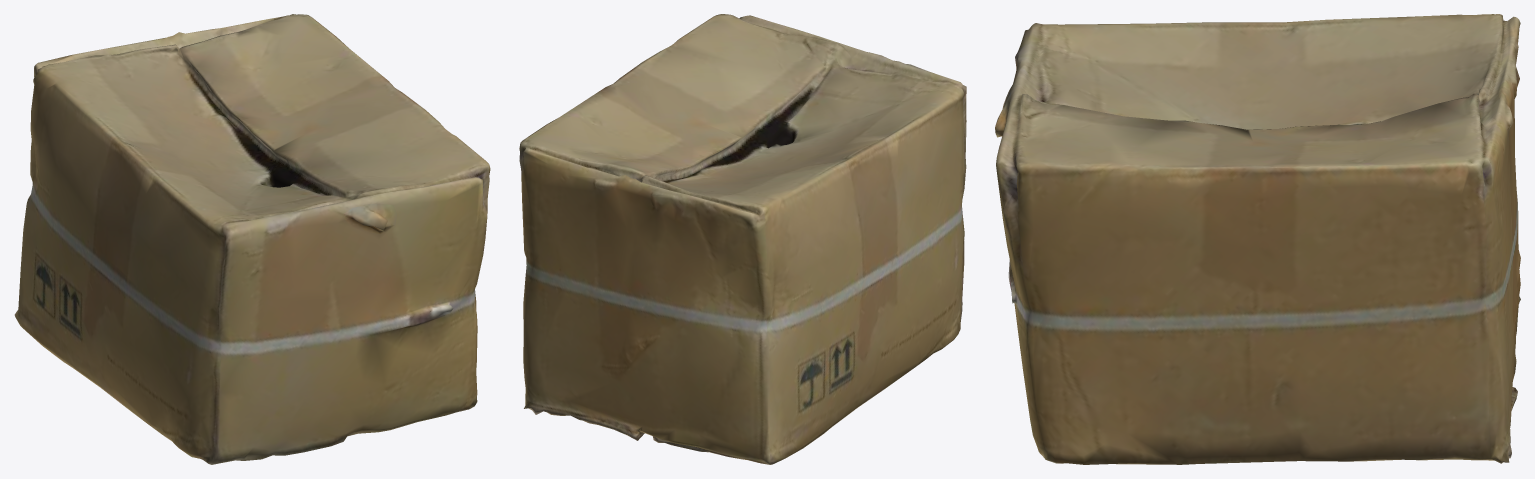
3 renders of one model, left to right at view 1: azimuth 30°, elevation 25°; view 2: azimuth 150°, elevation 25°; view 3: azimuth 270°, elevation 25°, orthographic. The views are drawn at different scales.
Visible parts, largest first — view 1: cardboard_box_01; view 2: cardboard_box_01; view 3: cardboard_box_01.
Part boxes in pixels (left/top/right/bottom): cardboard_box_01: left=14, top=14, right=490, bottom=464; cardboard_box_01: left=519, top=14, right=966, bottom=464; cardboard_box_01: left=995, top=14, right=1520, bottom=464.
Size of the model in its own units: 0.3868 by 0.3418 by 0.5159.
1 material, 1 textured.
